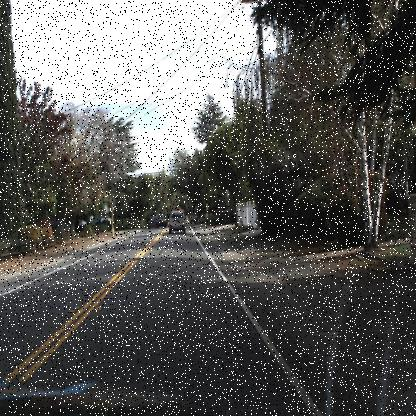car: (168, 206, 192, 236), (145, 212, 168, 232), (189, 211, 199, 225)
